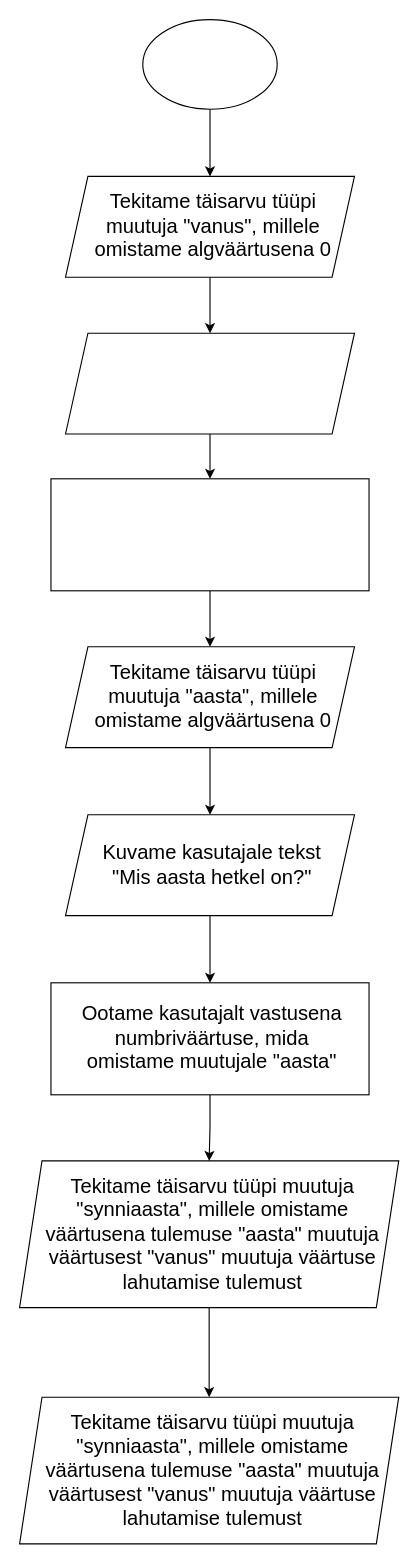
This 419x1564 diagram has some shape labels left out. Here are the shapes that lost their labels. From the top down, the box of each, then its label:
(142, 18, 277, 109): Algus
(64, 332, 354, 434): Kuvame kasutajale tekst "kui vana sa oled?"
(50, 478, 369, 591): Ootame kasutajalt vastusena numbriväärtuse, mida omistame muutujale "vanus"
